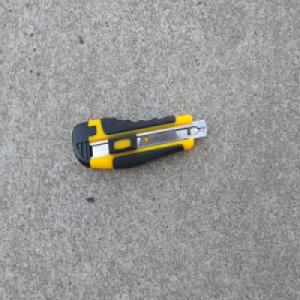Cutter: (70, 112, 208, 172)
